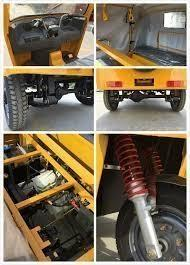keke: (2, 1, 94, 130), (5, 134, 94, 261), (98, 4, 189, 116)
